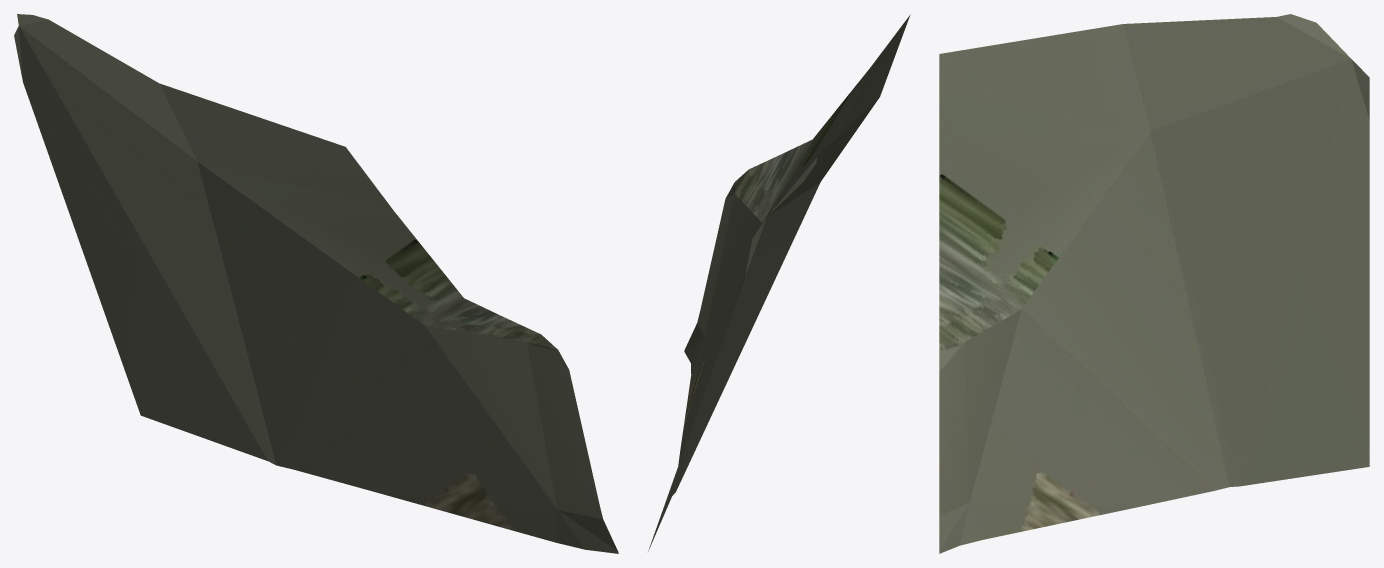
The picture shows the model from 3 angles, left to right: view 1: azimuth 30°, elevation 25°; view 2: azimuth 150°, elevation 25°; view 3: azimuth 270°, elevation 25°; orthographic projection. The views are drawn at different scales.
Bounding box in the file's own units: 4.86 × 5.9 × 5.9.
Materials: 4 (4 with a texture image).
